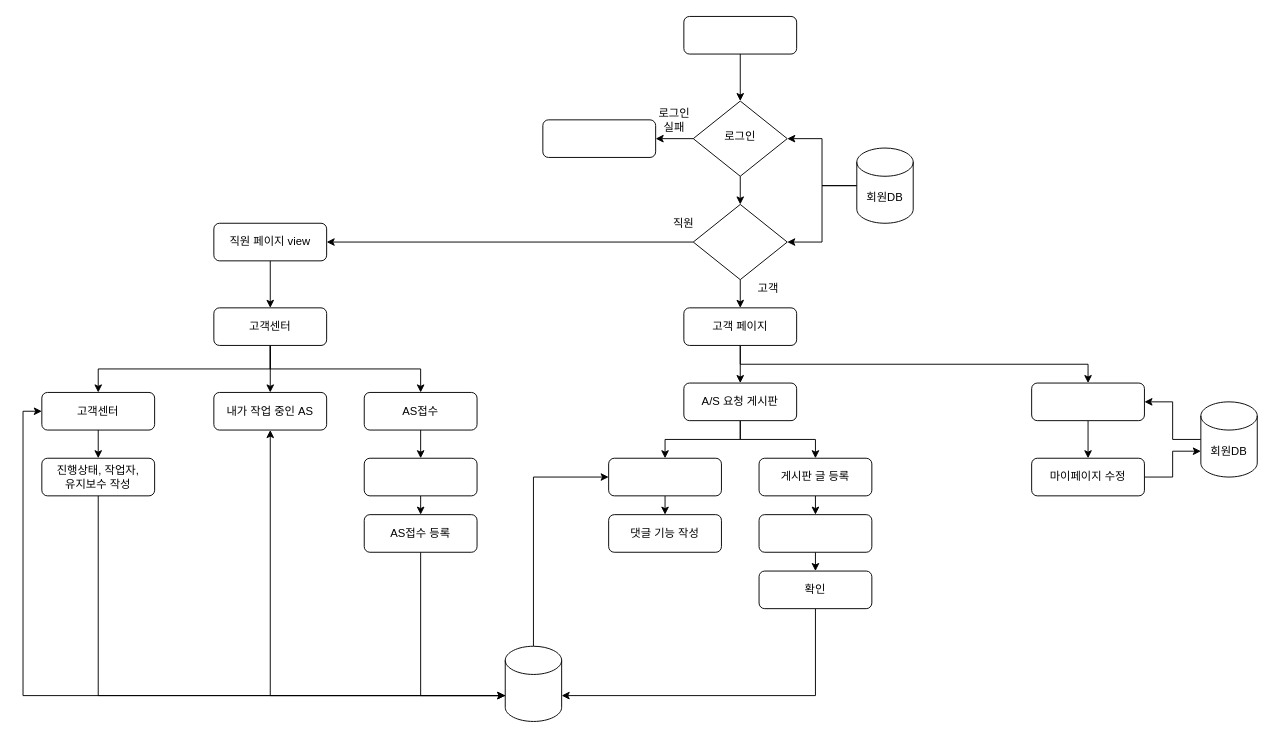
This 1274x738 diagram has some shape labels left out. Here are the shapes that lost their labels. From the top down, the centre of each, then its label:
pixel 740 35: 사이트 접근 (start)
pixel 599 138: 로그인 실패 알림
pixel 739 242: 직원 or 고객
pixel 1087 401: 마이페이지
pixel 420 476: AS접수 내용 작성
pixel 664 476: 게시판 내용 확인
pixel 815 533: 게시판 내용 입력
pixel 533 683: AS게시판
